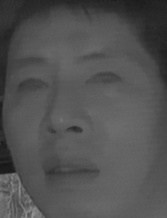eye: (83, 70, 123, 91), (16, 75, 49, 95)
mouth: (40, 153, 103, 189)
